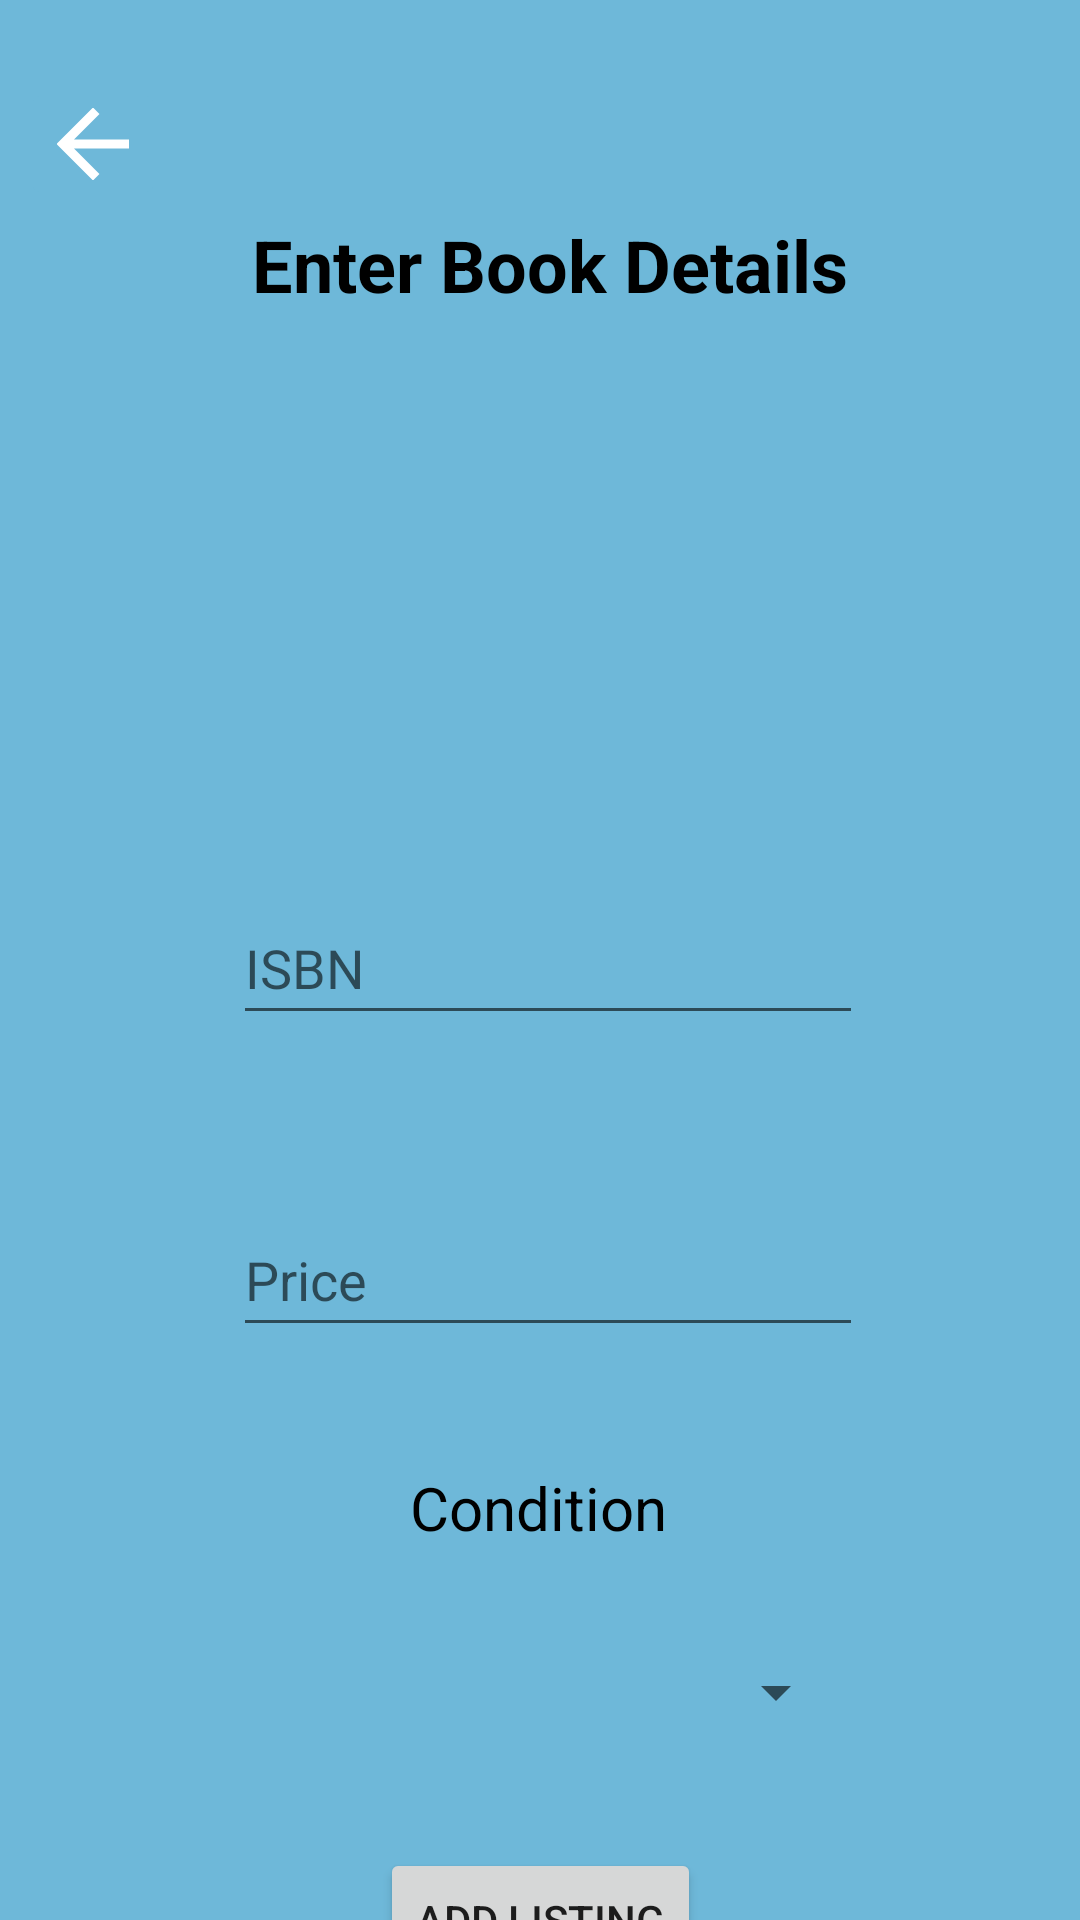

Named icons in this screenshot (1080*1920) and their bounding boxes, region(x1, y1, x2, y2):
back arrow: region(57, 108, 129, 180)
